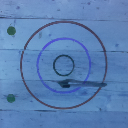Axe Tip: (56, 81, 70, 83)
